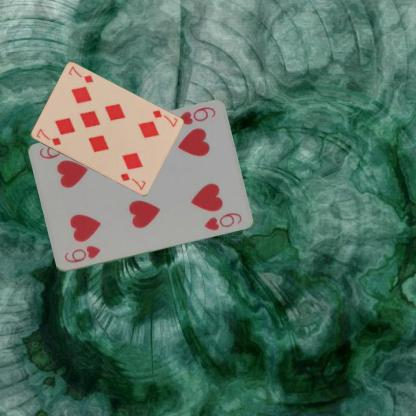6h: (175, 104, 217, 127), (61, 242, 102, 264)
7d: (34, 126, 63, 147), (150, 107, 178, 128)
